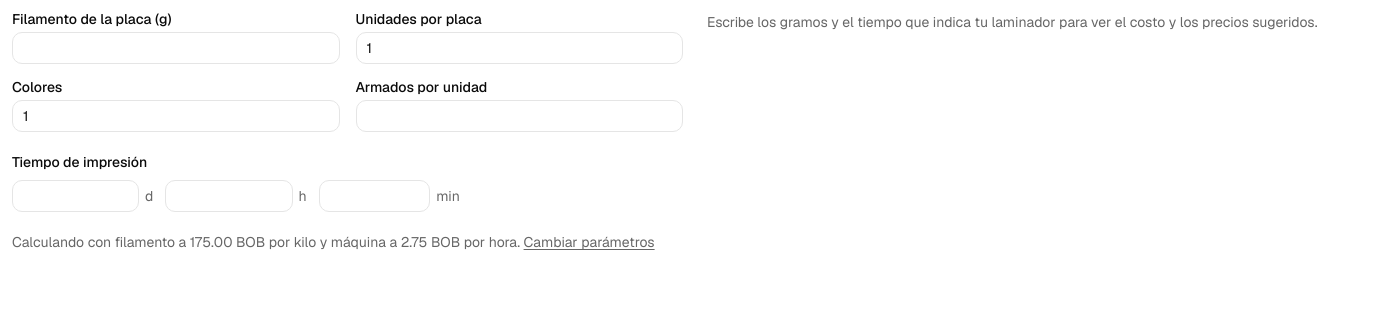
Scenario: PrintCostPage › calcula en vivo, sin enviar ningún formulario
Type "143" into the field labelled "Filamento de la placa (g)" at (176, 48), box left=12, top=32, right=340, bottom=64
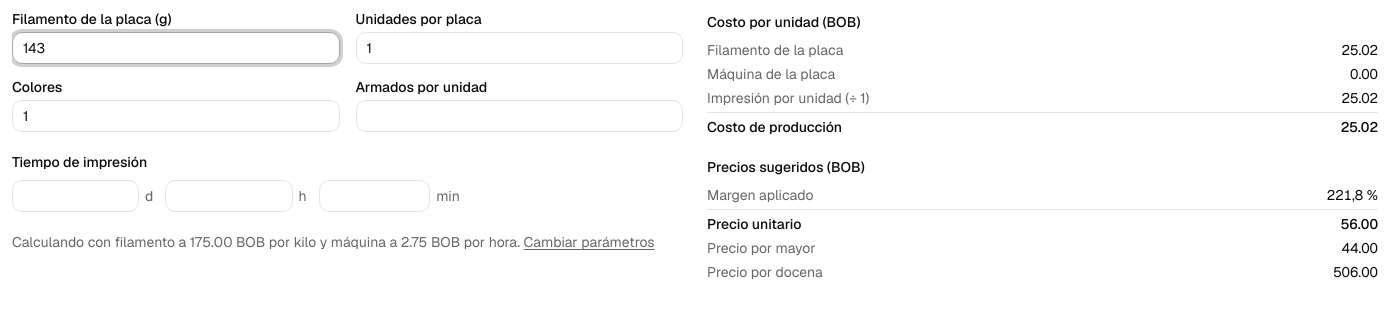
Type "660" into the field named "Minutos" at (374, 196), box left=319, top=180, right=430, bottom=212
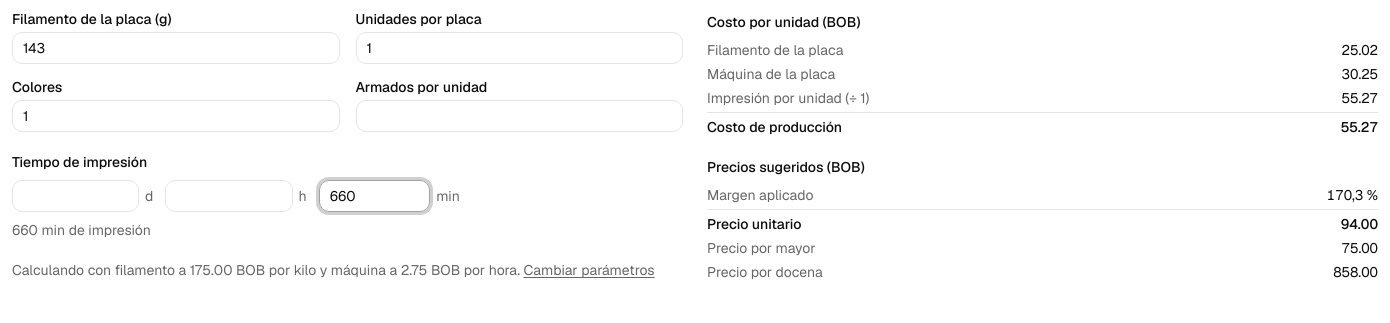
Replace the text in the field labelled "Unidades por placa" with "6" at (519, 48), box left=356, top=32, right=683, bottom=64
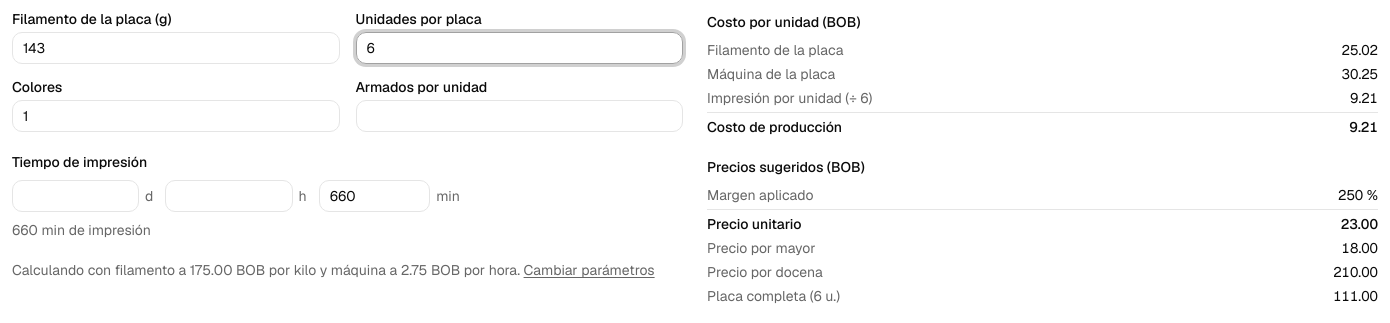
Replace the text in the field labelled "Colores" with "2" at (176, 116), box left=12, top=100, right=340, bottom=132
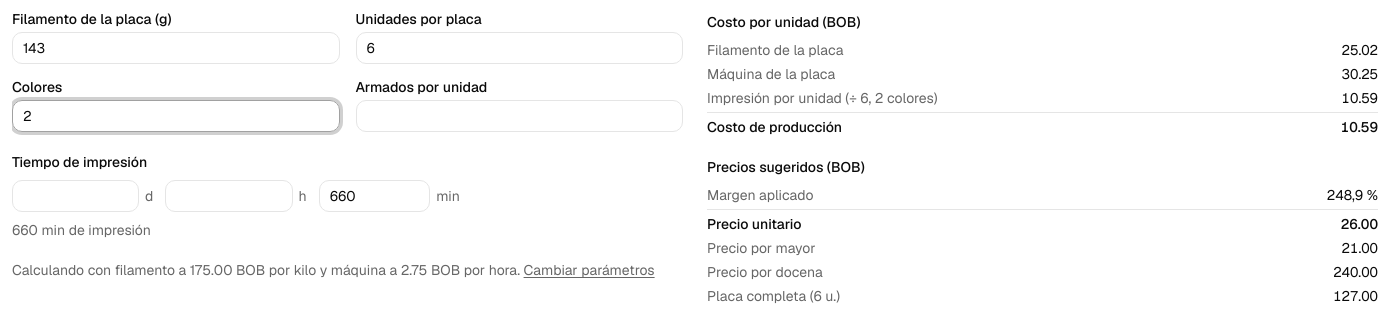
Expected: the text "30.25" is shown, left=1342, top=64, right=1378, bottom=84
Expected: the text "10.59" in the row of "Costo de producción" is shown, left=1341, top=118, right=1378, bottom=136
Expected: the text "248,9 %" is shown, left=1327, top=185, right=1378, bottom=205
